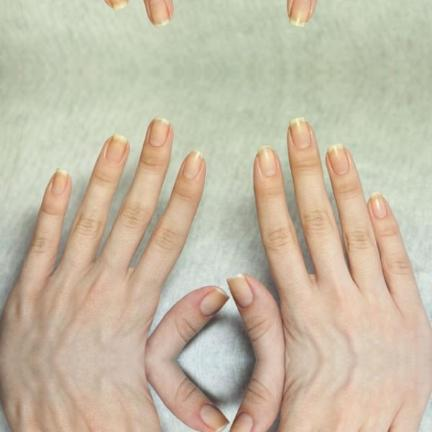Nail: (227, 274, 253, 307), (200, 288, 229, 315), (200, 405, 229, 432), (289, 117, 311, 149), (328, 144, 349, 175), (106, 133, 127, 164), (183, 149, 203, 180), (149, 117, 170, 146), (289, 0, 311, 27), (258, 146, 277, 176), (149, 0, 170, 27), (51, 168, 69, 196), (229, 413, 253, 432), (371, 191, 387, 219), (109, 0, 127, 11)
